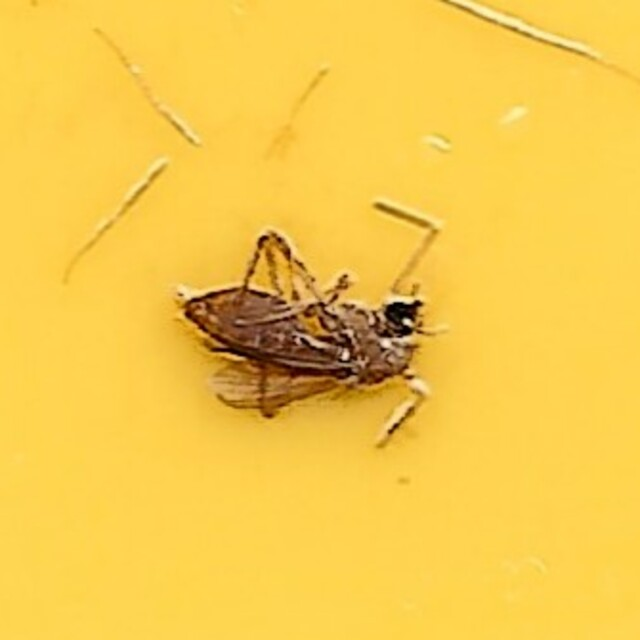Nematocera: (191, 208, 449, 432)
